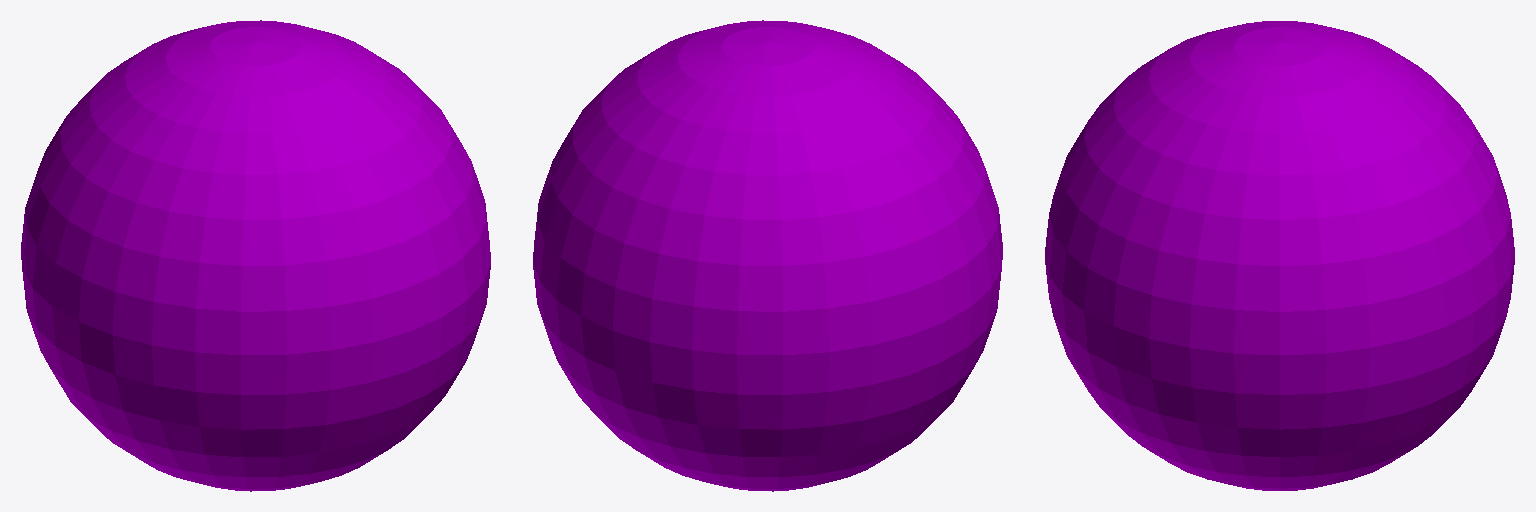
The robot description file, URDF, robot "sphere":
<?xml version='1.0' encoding='UTF-8'?>
<robot name="sphere">
  <link name="base_link">
    <inertial>
      <origin xyz="0.0 0.0 0.0" rpy="0.0 -0.0 0.0"/>
      <mass value="1.0"/>
      <inertia ixx="1.0" ixy="0.0" ixz="0.0" iyy="1.0" iyz="0.0" izz="1.0"/>
    </inertial>
    <visual name="base_link_visual">
      <geometry>
        <sphere radius="0.45"/>
      </geometry>
      <origin xyz="0 0 0" rpy="0 0 0"/>
      <material name="object_color">
        <color rgba="0.7 0 0.8 1"/>
      </material>
    </visual>
    <collision name="base_link_collision">
      <geometry>
        <sphere radius="0.45"/>
      </geometry>
      <origin xyz="0 0 0" rpy="0 0 0"/>
    </collision>
  </link>
</robot> 

--- What the picture shows (computed from the rendered views, not written in the file) ---
Views: 3 orthographic renders of the robot side by side, from view 1: azimuth 30°, elevation 25°; view 2: azimuth 150°, elevation 25°; view 3: azimuth 270°, elevation 25°.
Robot: sphere — 1 links, 0 joints (none); root link base_link; default pose: every joint at zero.
Links seen in each view (by area): view 1: base_link; view 2: base_link; view 3: base_link.
Link boxes in pixels (left/top/right/bottom): base_link: left=21, top=20, right=490, bottom=491; base_link: left=533, top=20, right=1002, bottom=491; base_link: left=1045, top=21, right=1514, bottom=490.
Bounding box of the posed robot: 0.9 × 0.9 × 0.9 m (x, y, z).
Geometry: primitives only (box / cylinder / sphere), no mesh files.
